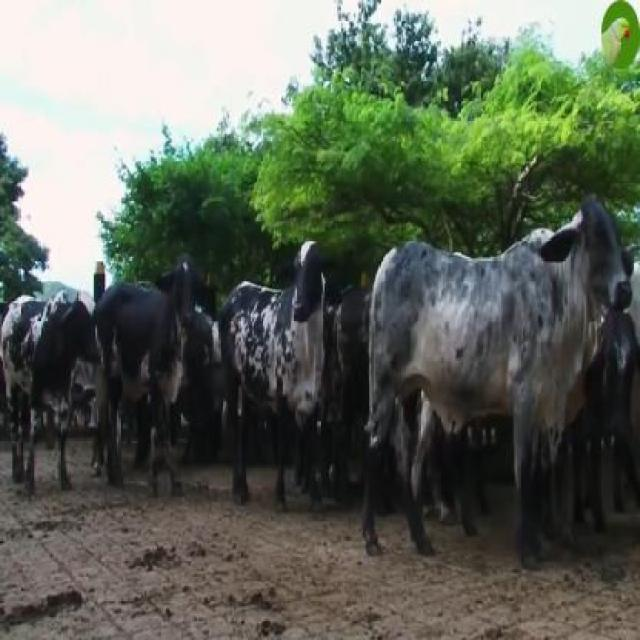Cow: (362, 191, 632, 557), (220, 238, 326, 508), (97, 256, 211, 502), (0, 289, 103, 502)
